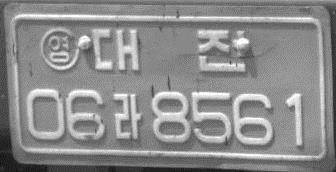0: (25, 87, 66, 141)
1: (284, 89, 306, 148)
5: (191, 88, 232, 147)
6: (232, 91, 273, 147), (65, 88, 105, 142)
8: (151, 90, 191, 144)
대전_D: (89, 25, 248, 75)
라: (110, 91, 143, 141)
영: (40, 27, 80, 72)
